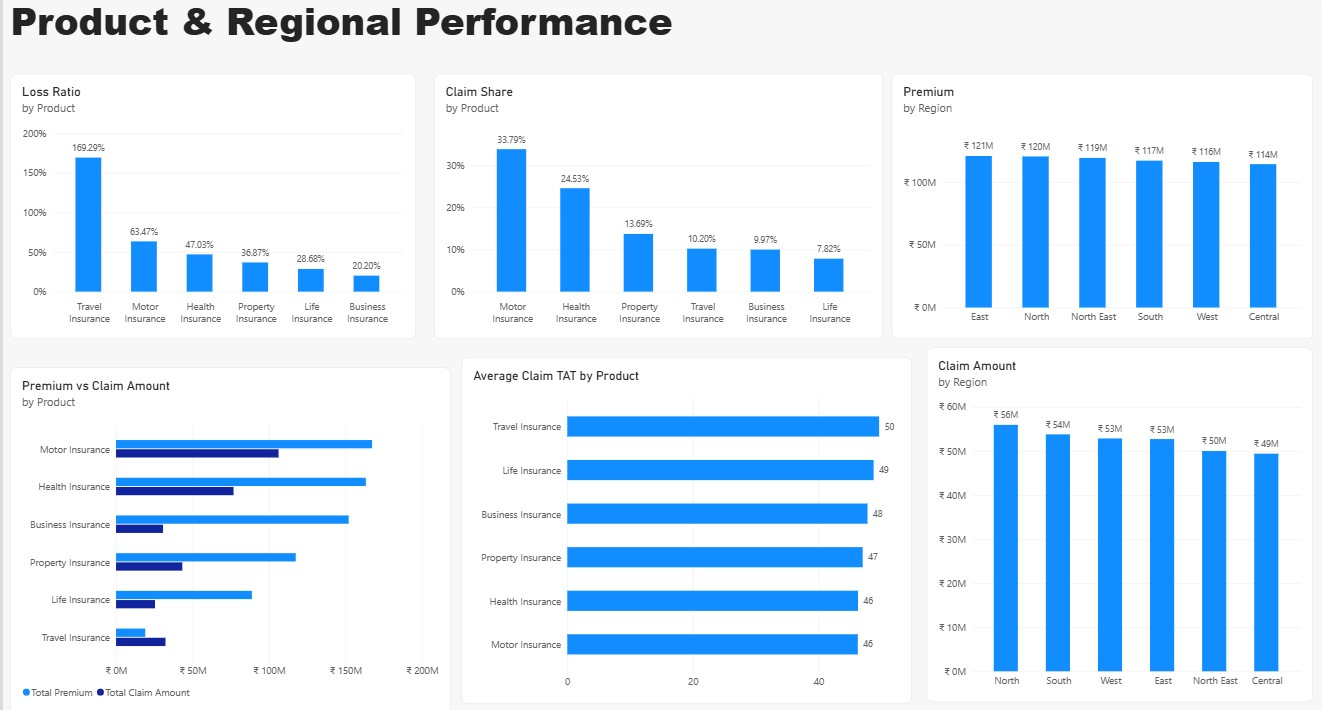

Layout of this report page (visuals, bound fields, positions):
{"tool":"powerbi","page":{"name":"Product & Regional Performance","canvas":[1920,1080],"ordinal":1},"visuals":[{"type":"textbox","box":[11.3,0,1094.5,79],"z":0},{"type":"clusteredColumnChart","title":"Loss Ratio ","fields":{"Category":["Products.Product_Name"],"Y":["Measures Table.Loss Ratio"]},"box":[10.9,114,586.3,383.6],"z":1},{"type":"clusteredColumnChart","title":"Claim Share","fields":{"Category":["Products.Product_Name"],"Y":["Measures Table.Claim Frequency %"]},"box":[624.3,114,649.7,383.6],"z":2},{"type":"clusteredBarChart","title":"Premium vs Claim Amount","fields":{"Category":["Products.Product_Name"],"Y":["Measures Table.Total Premium","Measures Table.Total Claim Amount"]},"box":[10.9,539.3,637,501.3],"z":3},{"type":"clusteredColumnChart","title":"Premium","fields":{"Category":["Regions.Region"],"Y":["Measures Table.Total Premium"]},"box":[1286.7,114,609.9,383.6],"z":4},{"type":"clusteredColumnChart","title":"Claim Amount","fields":{"Category":["Regions.Region"],"Y":["Measures Table.Total Claim Amount"]},"box":[1337.3,510.3,559.2,513.9],"z":5},{"type":"clusteredBarChart","title":"Average Claim TAT by Product","fields":{"Category":["Products.Product_Name"],"Y":["Measures Table.Average Claim TAT"]},"box":[664.1,524.8,651.5,501.3],"z":6}]}

Visuals, with their boxes on the page's 1920x1080 design canvas (x1, y1, x2, y2). These are canvas units, not pixel positions in the 1322x710 screenshot, which may show the page scaled, cropped or inside an application window:
textbox: [11, 0, 1106, 79]
"Loss Ratio " clusteredColumnChart: [11, 114, 597, 498]
"Claim Share" clusteredColumnChart: [624, 114, 1274, 498]
"Premium vs Claim Amount" clusteredBarChart: [11, 539, 648, 1041]
"Premium" clusteredColumnChart: [1287, 114, 1897, 498]
"Claim Amount" clusteredColumnChart: [1337, 510, 1896, 1024]
"Average Claim TAT by Product" clusteredBarChart: [664, 525, 1316, 1026]
